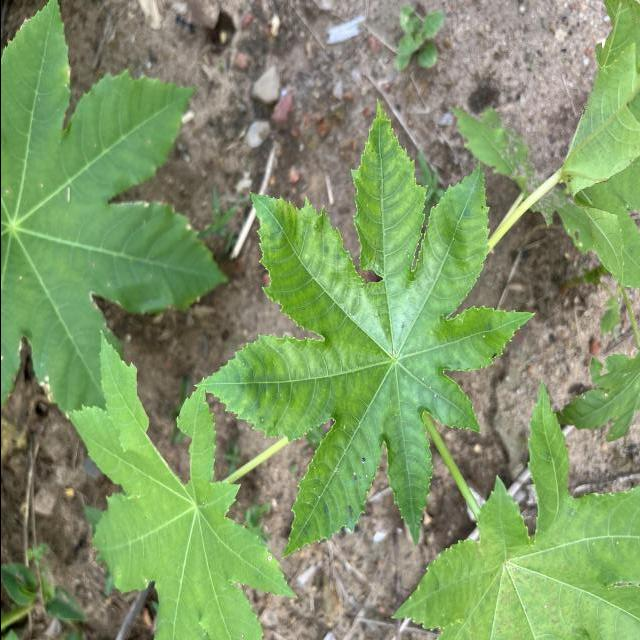Ricinus communis linn: (187, 92, 540, 566)
